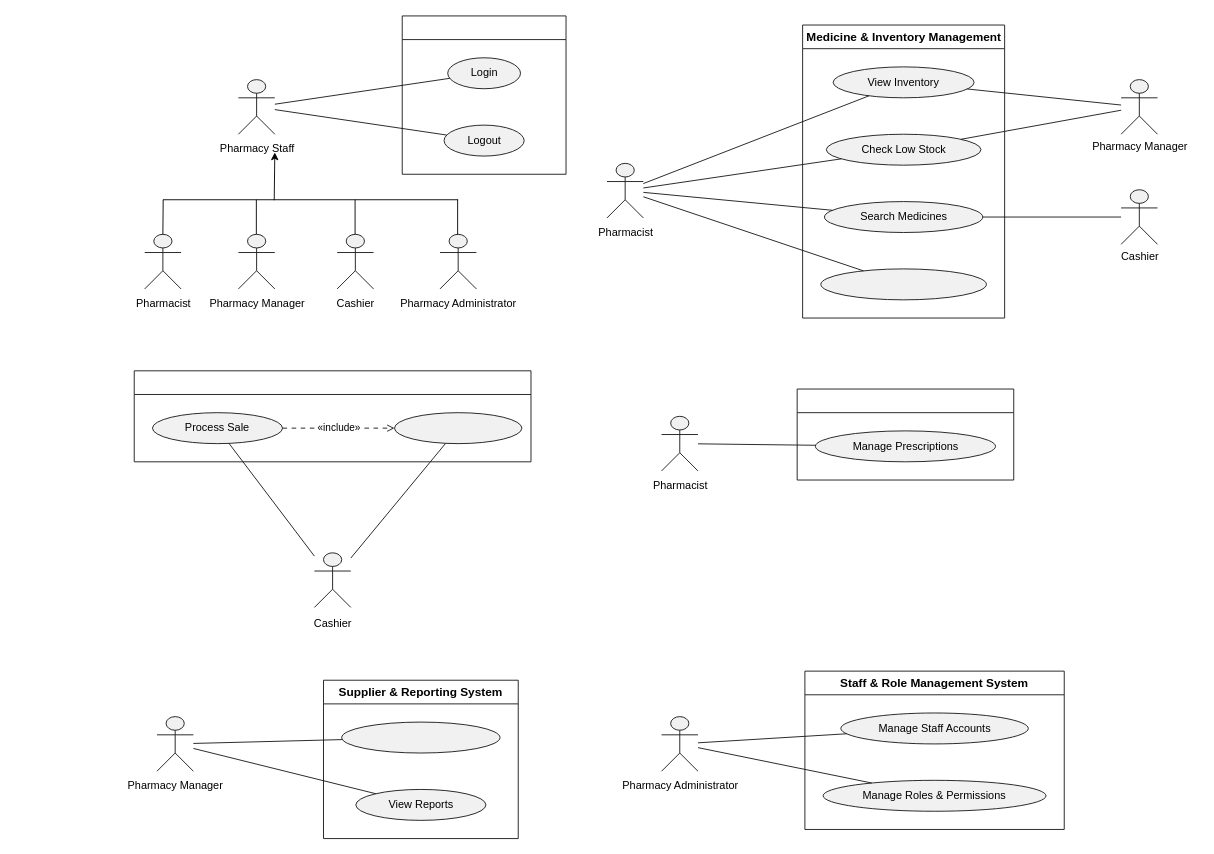
Image size: 1214x854. Some labels were removed from this diagram. Here are the shapes that lost their labels. From the top down, the box of each, then its label:
(401, 15, 566, 174): Authentication System
(820, 268, 986, 300): Manage Medicines
(133, 370, 531, 462): Sales & Billing System
(394, 412, 522, 444): Generate Bill
(796, 388, 1014, 480): Prescription Management System
(341, 721, 500, 753): Manage Suppliers
